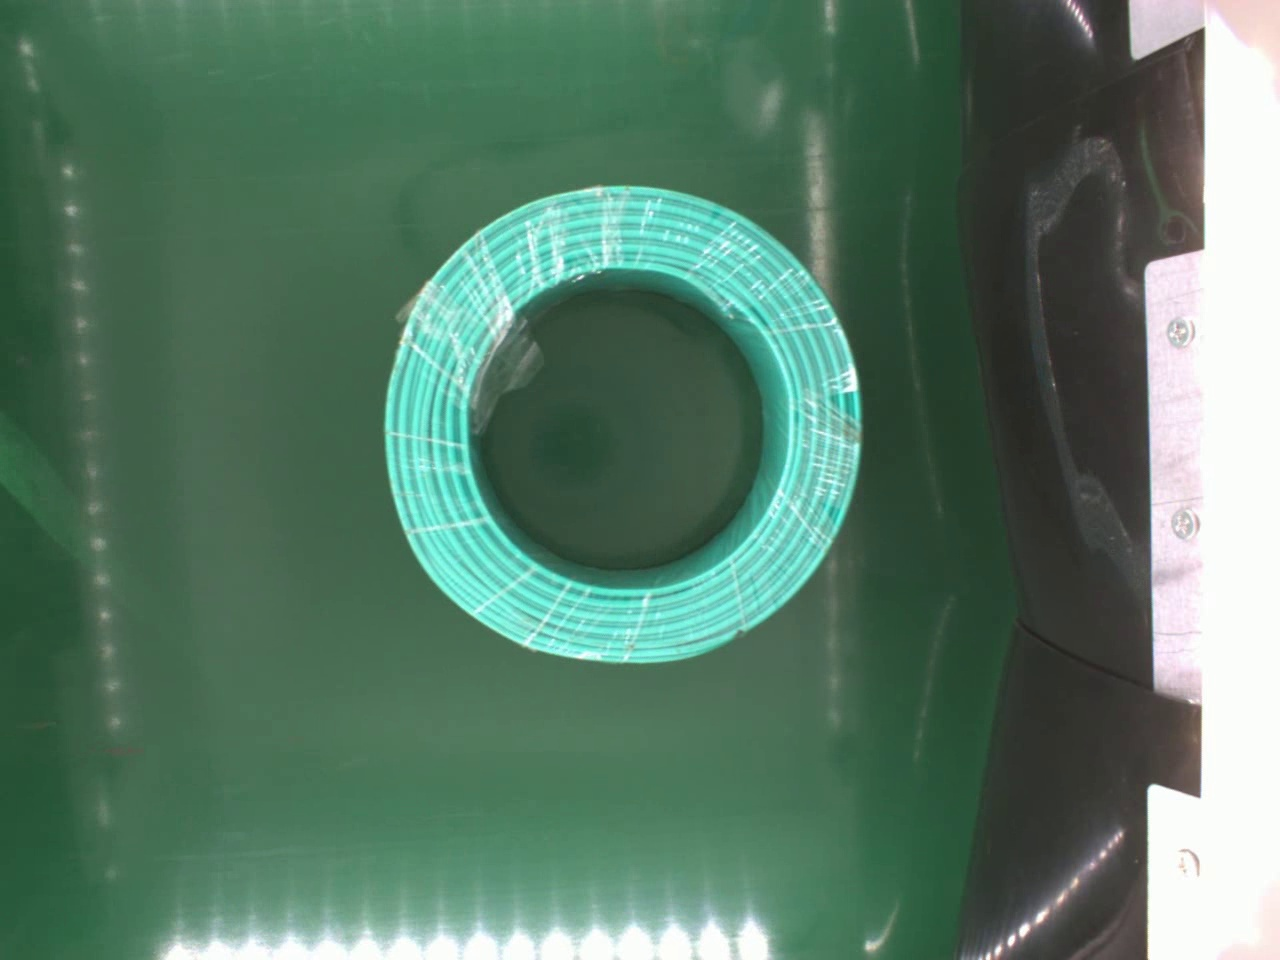green: (372, 173, 863, 667)
